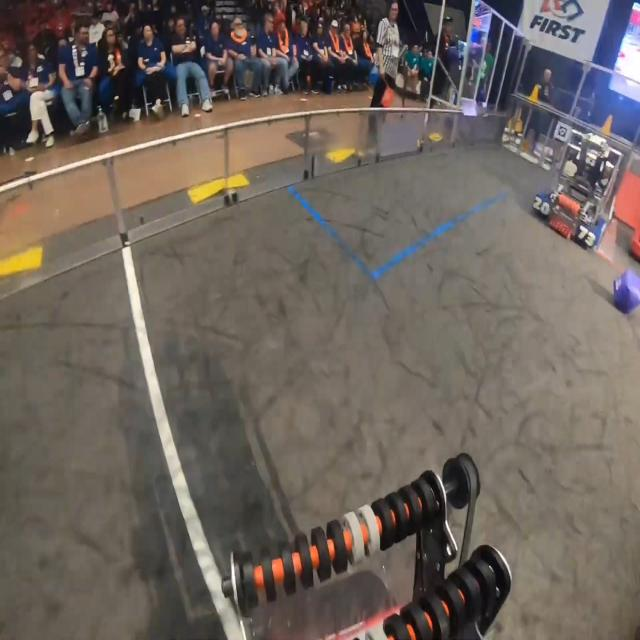robot: (534, 131, 624, 250)
